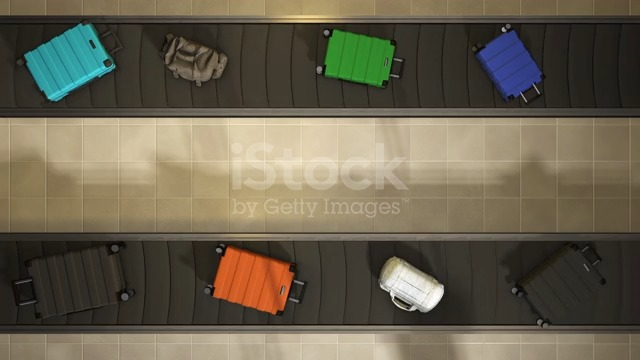Bag: (8, 240, 133, 319), (22, 20, 130, 105), (200, 240, 311, 321), (511, 241, 608, 327), (469, 24, 549, 108), (314, 27, 410, 96), (376, 255, 448, 317), (158, 31, 231, 92)
Handle: (10, 276, 40, 312), (99, 28, 124, 56), (285, 277, 308, 307), (518, 80, 542, 106), (581, 244, 604, 266), (387, 56, 406, 81)
Straps: (390, 292, 416, 311)
